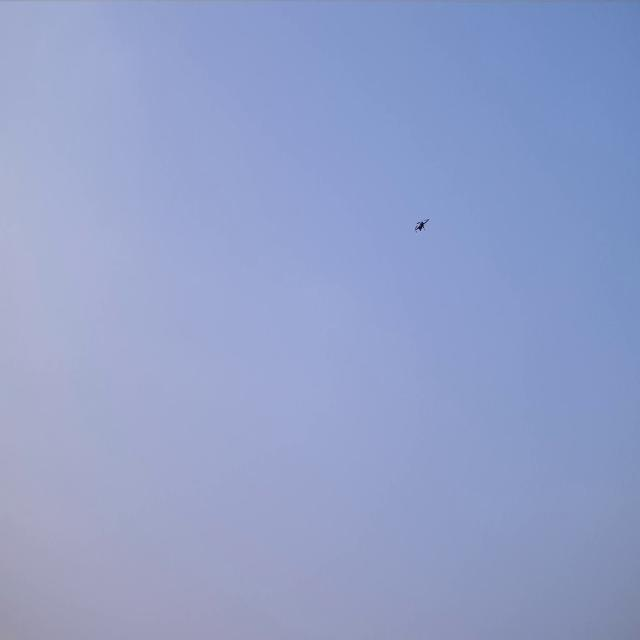UAV: (414, 217, 431, 235)
